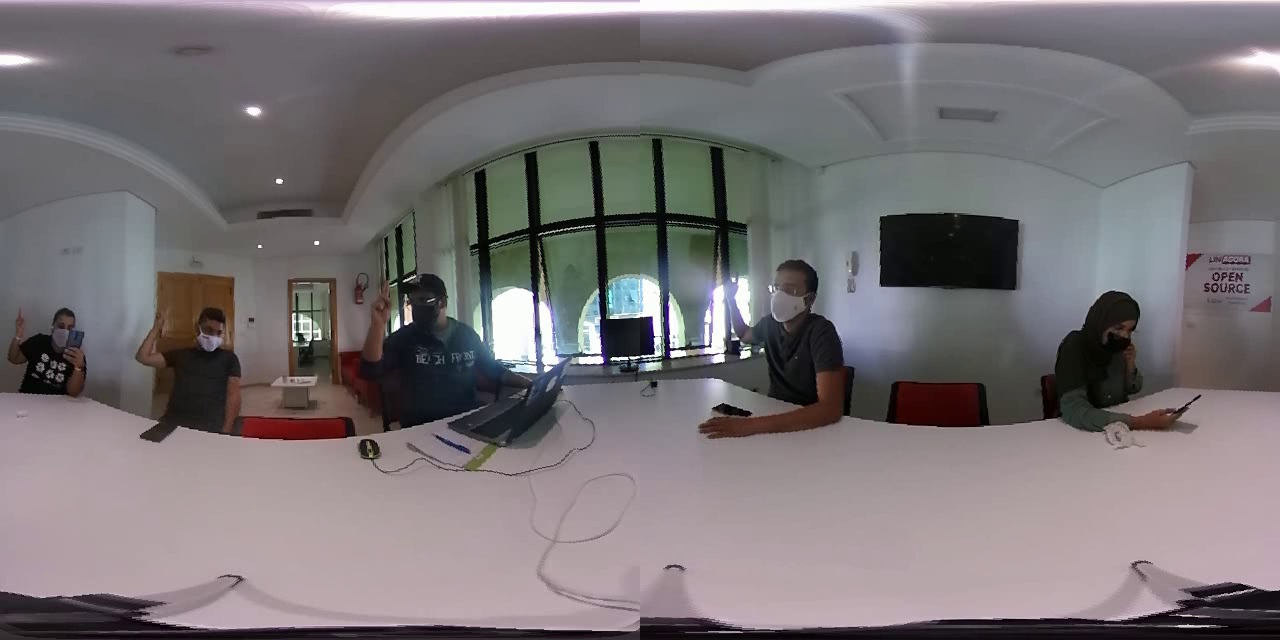person: (694, 251, 849, 436), (356, 264, 503, 425), (1045, 278, 1171, 439), (132, 293, 259, 445), (1, 285, 98, 402)
speaking: (358, 266, 400, 385), (713, 257, 757, 361), (133, 299, 173, 385), (5, 296, 38, 375)
